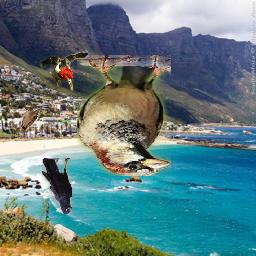Crow: (42, 158, 72, 214)
Sparrow: (77, 56, 171, 177), (20, 108, 40, 130)
Woodpecker: (40, 49, 90, 92)
